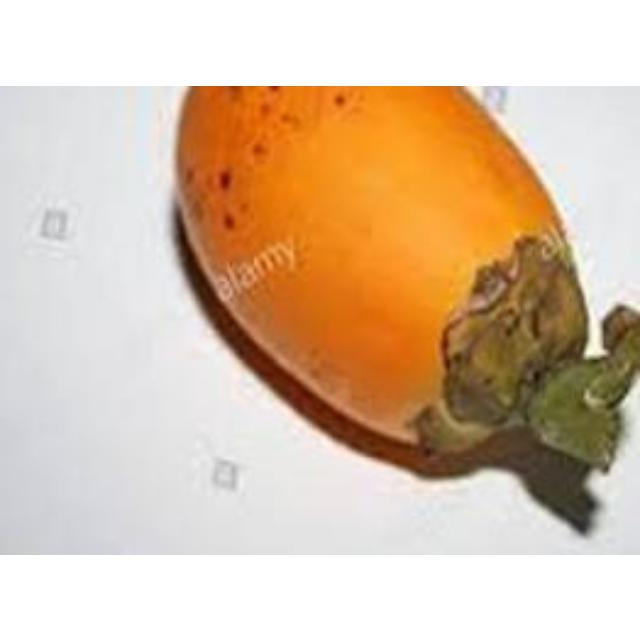good: (173, 85, 638, 481)
